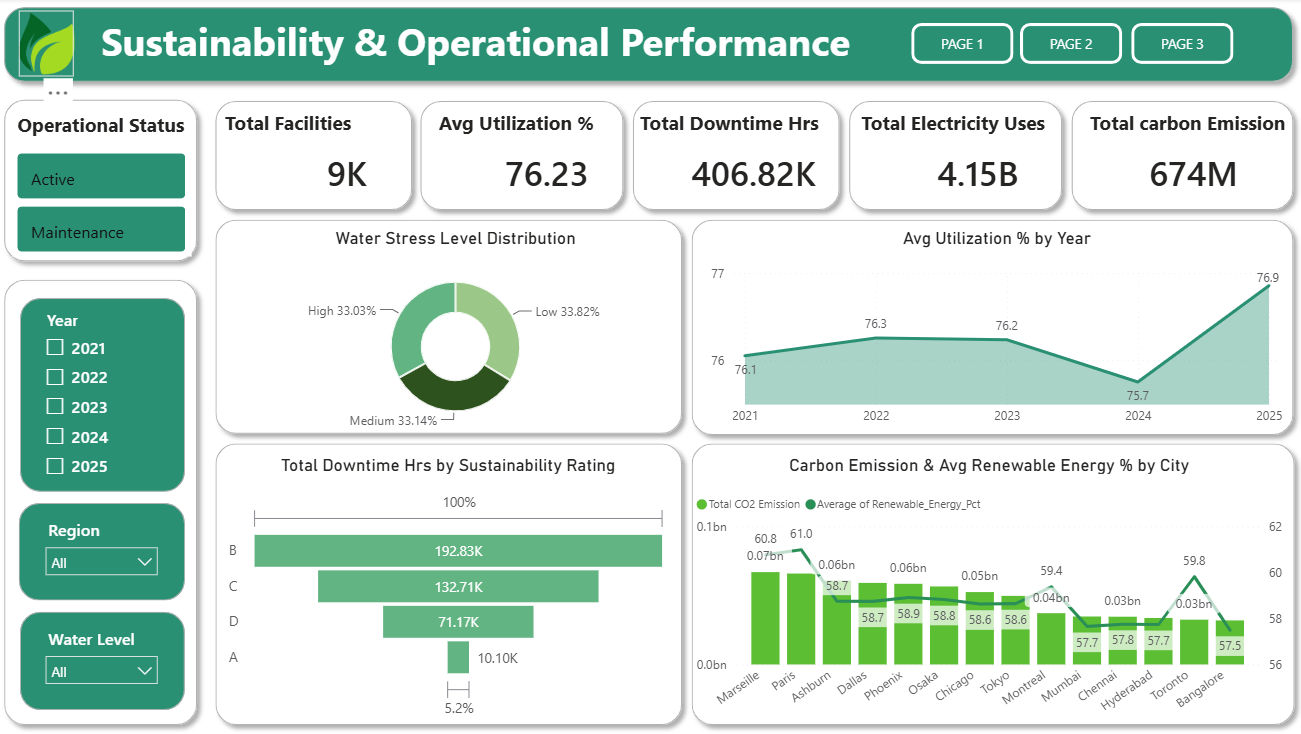

The dashboard page shown, as its layout file describes it:
{"tool":"powerbi","page":{"name":"PAGE 1","canvas":[1280,720],"ordinal":2},"visuals":[{"type":"card","fields":{"Values":["Table1.Total Facilities"]},"box":[223.5,91.2,260.7,145.5],"z":0},{"type":"shape","title":"Total Facilities","box":[206.7,91.7,210.3,124.7],"z":1000},{"type":"shape","box":[407.2,91.7,216.4,124.7],"z":2000},{"type":"shape","box":[615.1,91.7,220.1,124.7],"z":3000},{"type":"shape","box":[826.6,91.7,226.2,124.7],"z":4000},{"type":"shape","box":[1044.3,91.7,234.8,124.7],"z":5000},{"type":"card","title":"Total Facilities","fields":{"Values":["Table1.Total Facilities 1"]},"box":[220.1,112.5,248.5,89.7],"z":6000},{"type":"card","title":"Total Capacity (WM)","fields":{"Values":["Table1.Total Capacity (MW)"]},"box":[420.7,107.6,251.9,90.5],"z":7000},{"type":"card","title":"Avg Utilization %","fields":{"Values":["Table1.Avg Utilization %"]},"box":[640.8,110.1,222.1,89.7],"z":8000},{"type":"card","title":"Total Electricity Uses","fields":{"Values":["Table1.Total Electricity Usage"]},"box":[842.5,108.8,238.2,89.7],"z":9000},{"type":"card","title":"Total carbon Emission","fields":{"Values":["Table1.Total CO2 Emission"]},"box":[1066.3,107.6,212.8,89.3],"z":10000},{"type":"shape","title":"Total Facilities","box":[206.7,207.9,518.5,227.4],"z":11000},{"type":"shape","title":"Total Facilities","box":[715.4,207.9,563.7,227.4],"z":12000},{"type":"shape","title":"Total Facilities","box":[206.7,426.8,518.5,293.5],"z":13000},{"type":"shape","title":"Total Facilities","box":[715.4,426.8,564.9,293.5],"z":14000},{"type":"donutChart","title":"Total Facilities by Facility Type","fields":{"Category":["Table1.Facility_Type"],"Y":["Table1.Total Facilities 1"]},"box":[233.6,221.3,470.8,199.3],"z":15000},{"type":"shape","title":"Total Facilities","box":[0,90.5,206.7,176.1],"z":16000},{"type":"shape","title":"Total Facilities","box":[0,266.6,206.7,453.7],"z":17000},{"type":"shape","title":"Total Facilities","box":[0,0,1278.8,90.9],"z":18000},{"type":"shape","title":"Total Facilities","box":[24.5,293.5,161.4,189.5],"z":19000},{"type":"shape","title":"Total Facilities","box":[25,600,161.2,96.2],"z":20000},{"type":"slicer","fields":{"Values":["Table1.Year"]},"box":[37.9,298.4,130.8,181],"z":21000},{"type":"shape","title":"Total Facilities","box":[23.2,494,162.6,95.4],"z":22000},{"type":"slicer","fields":{"Values":["Table1.Region"]},"box":[39.1,503.8,129.6,75.8],"z":23000},{"type":"slicer","fields":{"Values":["Table1.Water Level"]},"box":[39.1,610.2,129.6,75.8],"z":24000},{"type":"image","box":[22.7,12.1,54.5,65.2],"z":25000},{"type":"textbox","box":[81.9,13.5,868.2,64.8],"z":26000},{"type":"advancedSlicerVisual","fields":{"Values":["Table1.Operational Status"]},"box":[17.1,111.3,174.9,141.8],"z":27000},{"type":"actionButton","box":[881.7,26.9,100,40],"z":28000},{"type":"actionButton","box":[992.9,26.9,100,40],"z":29000},{"type":"image","box":[233.6,160.2,42.8,41.6],"z":30000},{"type":"image","box":[436.6,162.6,33,40.4],"z":31000},{"type":"image","box":[640.8,161.4,42.8,39.1],"z":32000},{"type":"image","box":[835.2,160.2,73.4,39.1],"z":33000},{"type":"image","box":[1052.9,161.4,79.5,40.4],"z":34000},{"type":"clusteredBarChart","title":"Sustainability Rating vs Total facilities","fields":{"Category":["Table1.Sustainability_Rating"],"Y":["Table1.Total Facilities 1"]},"box":[741,221.3,514.8,205.4],"z":35000},{"type":"barChart","title":"Country vs Total Capacity","fields":{"Category":["Table1.Country"],"Y":["Table1.Total Capacity (MW)"]},"box":[225,440.2,479.4,280],"z":36000},{"type":"ribbonChart","title":"Capacity by Region and Facility Type","fields":{"Category":["Table1.Region"],"Series":["Table1.Facility_Type"],"Y":["Table1.Total Capacity (MW)"]},"box":[725.1,440.2,553.9,271.5],"z":37000},{"type":"actionButton","box":[1103,26.9,100,40],"z":38000}]}

Visuals, with their boxes in screenshot pixels (x1, y1, x2, y2), scaled from the page's 1280x720 canvas onto the 1301x734 screenshot:
card - Table1.Total Facilities: region(227, 93, 492, 241)
"Total Facilities" shape: region(210, 93, 424, 221)
shape: region(414, 93, 634, 221)
shape: region(625, 93, 849, 221)
shape: region(840, 93, 1070, 221)
shape: region(1061, 93, 1300, 221)
"Total Facilities" card: region(224, 115, 476, 206)
"Total Capacity (WM)" card: region(428, 110, 684, 202)
"Avg Utilization %" card: region(651, 112, 877, 204)
"Total Electricity Uses" card: region(856, 111, 1098, 202)
"Total carbon Emission" card: region(1084, 110, 1300, 201)
"Total Facilities" shape: region(210, 212, 737, 444)
"Total Facilities" shape: region(727, 212, 1300, 444)
"Total Facilities" shape: region(210, 435, 737, 733)
"Total Facilities" shape: region(727, 435, 1300, 733)
"Total Facilities by Facility Type" donutChart: region(237, 226, 716, 429)
"Total Facilities" shape: region(0, 92, 210, 272)
"Total Facilities" shape: region(0, 272, 210, 733)
"Total Facilities" shape: region(0, 0, 1300, 93)
"Total Facilities" shape: region(25, 299, 189, 492)
"Total Facilities" shape: region(25, 612, 189, 710)
slicer - Table1.Year: region(39, 304, 171, 489)
"Total Facilities" shape: region(24, 504, 189, 601)
slicer - Table1.Region: region(40, 514, 171, 591)
slicer - Table1.Water Level: region(40, 622, 171, 699)
image: region(23, 12, 78, 79)
textbox: region(83, 14, 966, 80)
advancedSlicerVisual - Table1.Operational Status: region(17, 113, 195, 258)
actionButton: region(896, 27, 998, 68)
actionButton: region(1009, 27, 1111, 68)
image: region(237, 163, 281, 206)
image: region(444, 166, 477, 207)
image: region(651, 165, 695, 204)
image: region(849, 163, 924, 203)
image: region(1070, 165, 1151, 206)
"Sustainability Rating vs Total facilities" clusteredBarChart: region(753, 226, 1276, 435)
"Country vs Total Capacity" barChart: region(229, 449, 716, 733)
"Capacity by Region and Facility Type" ribbonChart: region(737, 449, 1300, 726)
actionButton: region(1121, 27, 1223, 68)
